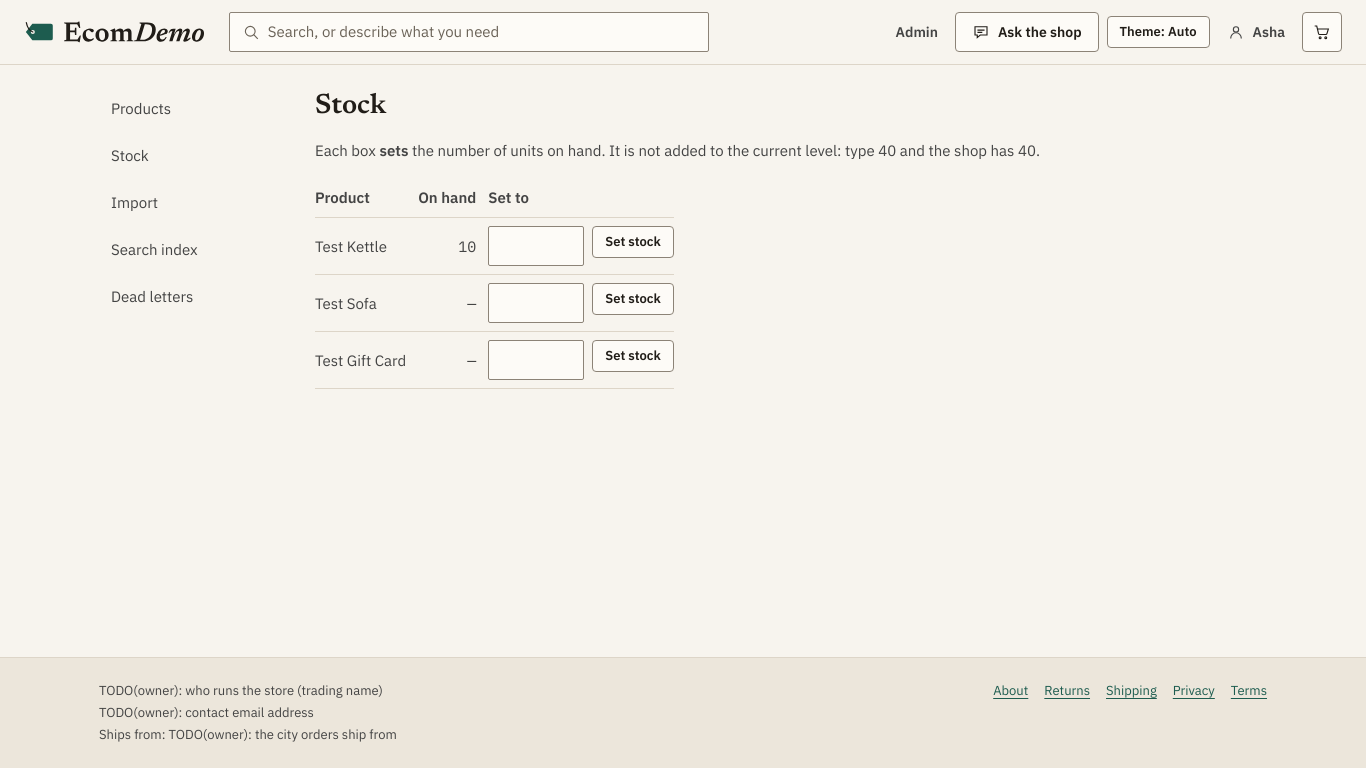
Test: stock › shows the server's reason when a level is refused
Type "5" into the field named "New level for Test Kettle" at x=536, y=246, box [501,227,571,265]
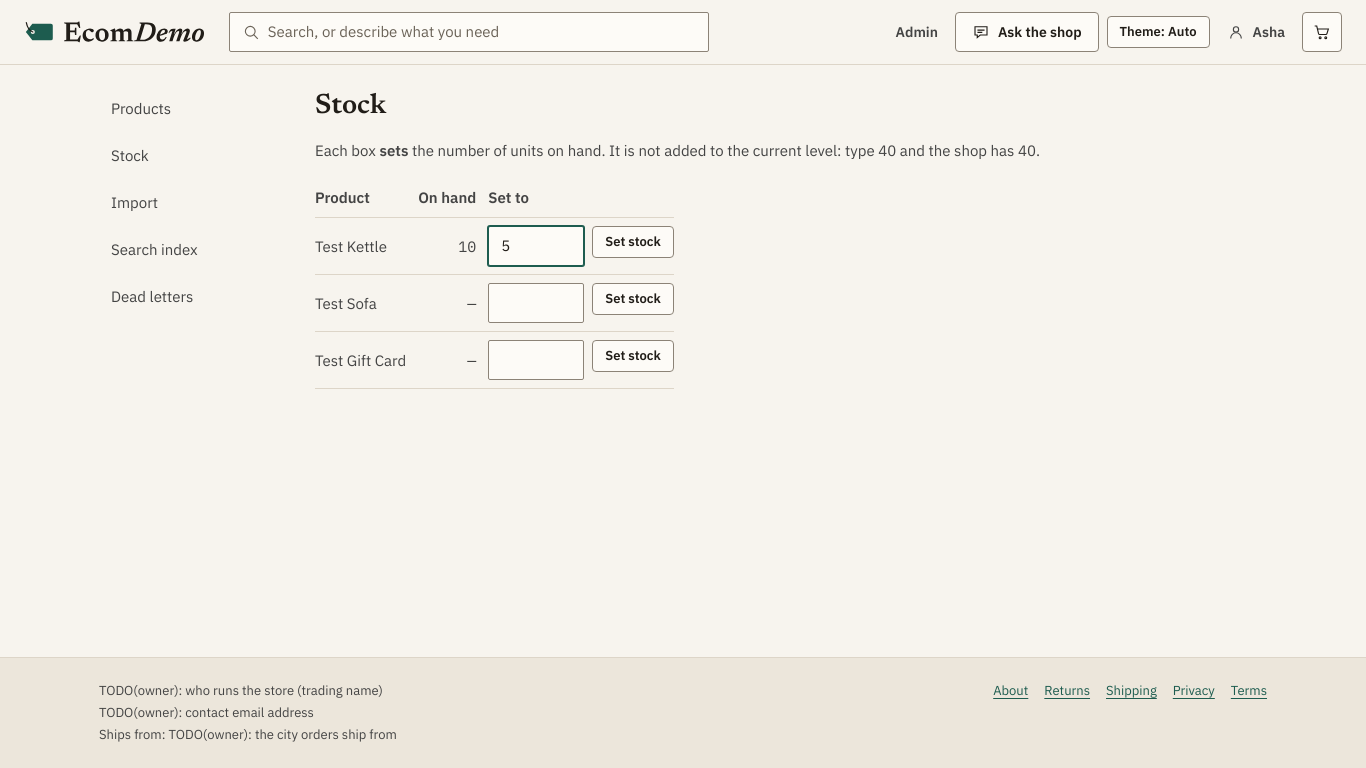
Click the button "Set stock" in the row of "Test Kettle" at x=633, y=242, box [592,226,674,258]
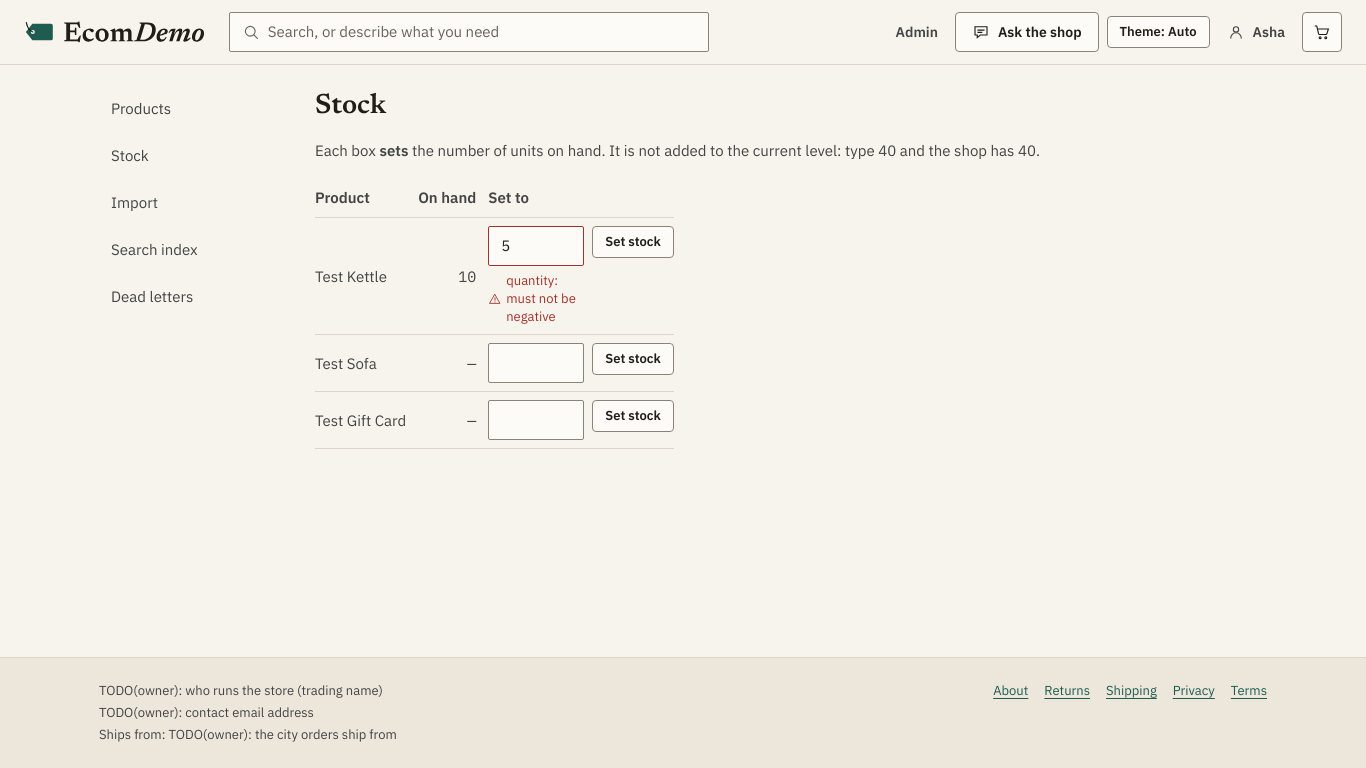
Expected: the text "quantity: must not be negative" is shown, [488,272,584,326]
